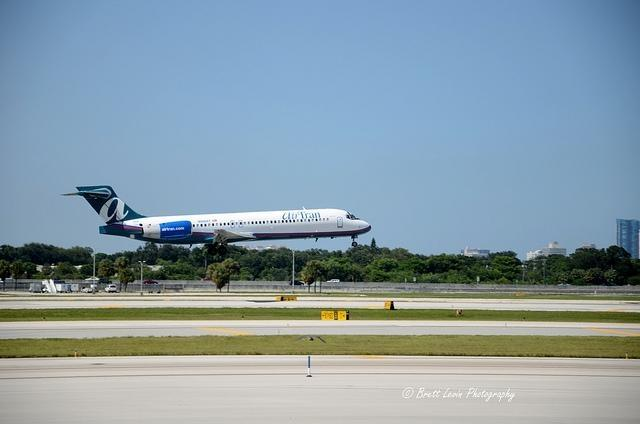car: (105, 284, 117, 293), (288, 280, 304, 286), (142, 279, 158, 284), (326, 279, 342, 282)
truck: (66, 284, 78, 294), (56, 284, 68, 291), (42, 285, 51, 293)
